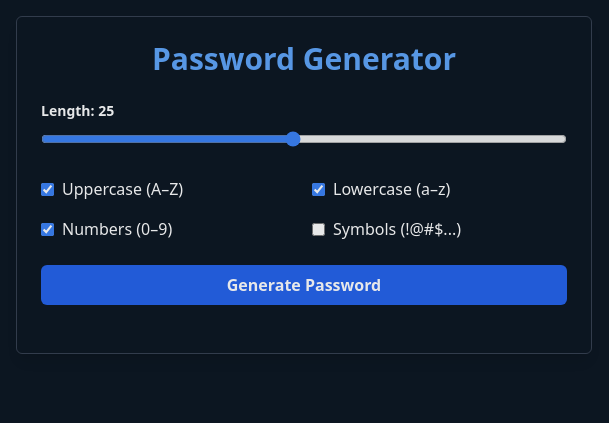
it: PasswordGenerator component › shows an error when no options are selected
The image size is (609, 423).
# submit input
Click the checkbox labelled "Uppercase (A–Z)". click: {"x": 48, "y": 189}
box: [41,182,54,196]
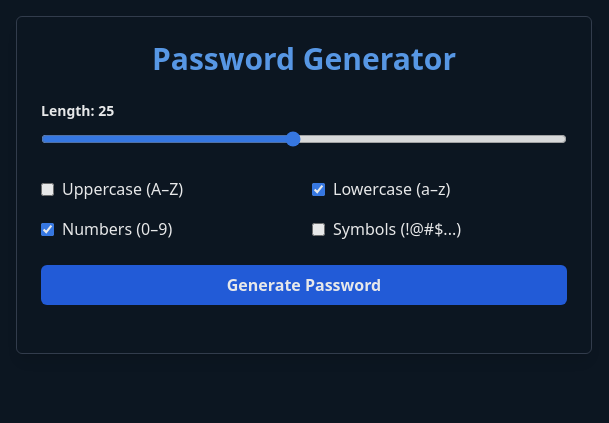
Click the checkbox labelled "Lowercase (a–z)". click: {"x": 318, "y": 189}
box: [312,182,325,196]
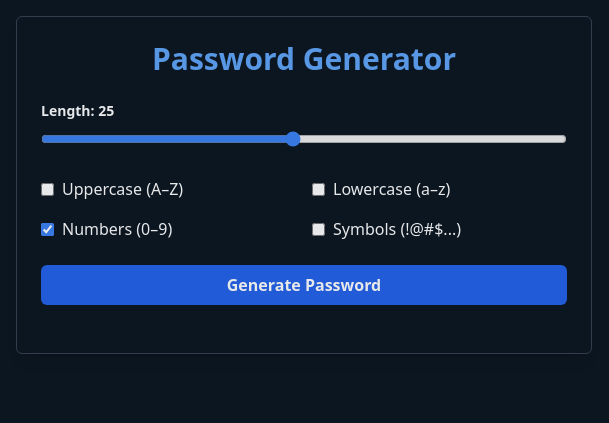
Click the checkbox labelled "Numbers (0–9)". click: {"x": 48, "y": 229}
box: [41,222,54,236]
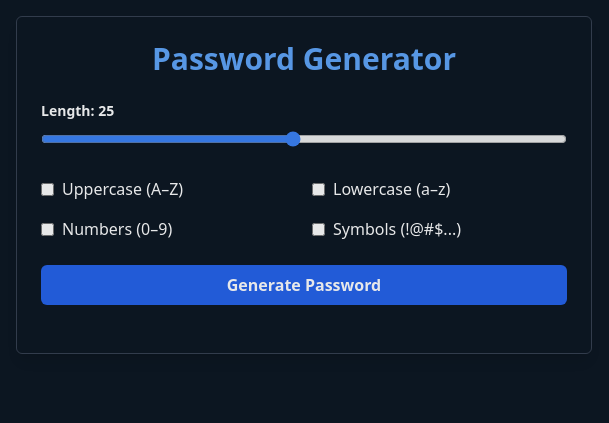
Click the button "Generate Password". click: {"x": 304, "y": 285}
box: [41,265,567,305]
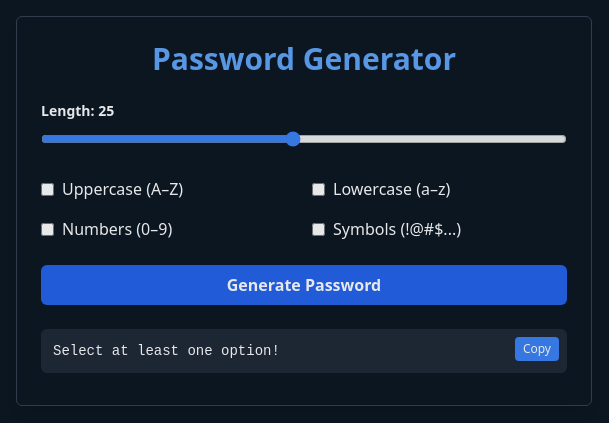
expect the text "Select at least one option!" is shown: met, box [41,329,567,373]
